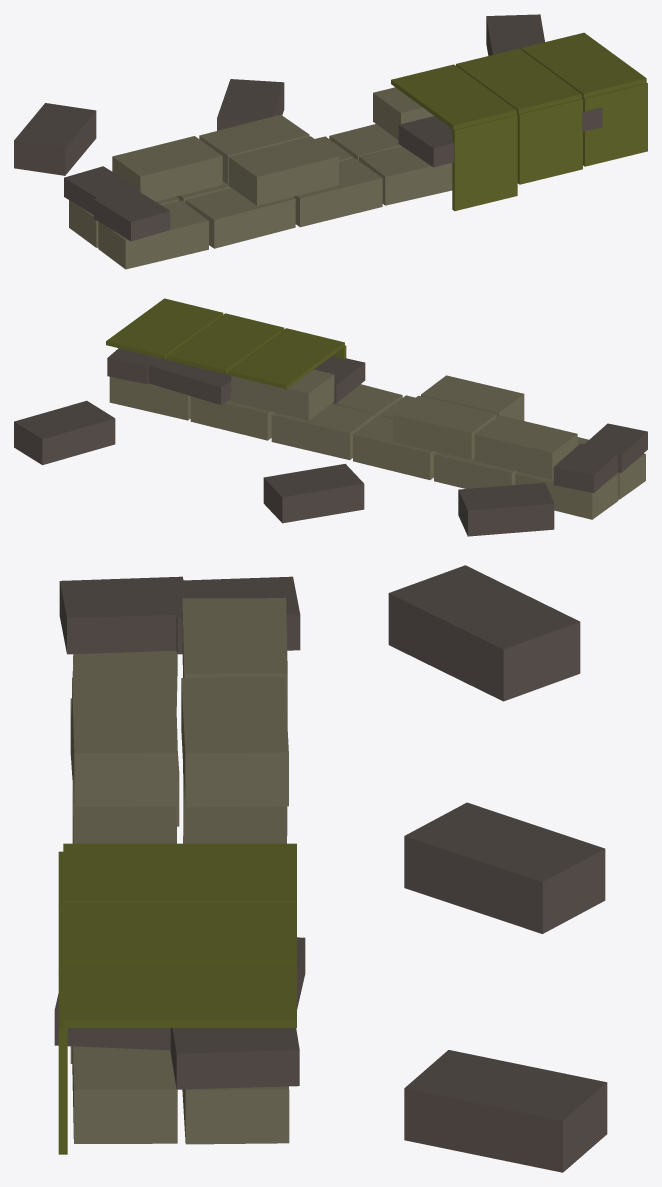
Rendered from SM_PretilTramo_v4_Red_e2_MuyDanado_LOD0.fbx.
3 renders of one model, top to bottom at view 1: azimuth 30°, elevation 25°; view 2: azimuth 150°, elevation 25°; view 3: azimuth 270°, elevation 25°, orthographic. The views are drawn at different scales.
Visible parts, largest first — view 1: SM_pretil_azotea_v18_LOD0; view 2: SM_pretil_azotea_v18_LOD0; view 3: SM_pretil_azotea_v18_LOD0.
Boxes of the visible parts, x1,y1,x2,y2 form: SM_pretil_azotea_v18_LOD0: (14,14,647,269); SM_pretil_azotea_v18_LOD0: (14,298,647,536); SM_pretil_azotea_v18_LOD0: (54,565,607,1172).
Size of the model in its own units: 5.41 by 0.7939 by 2.51.
